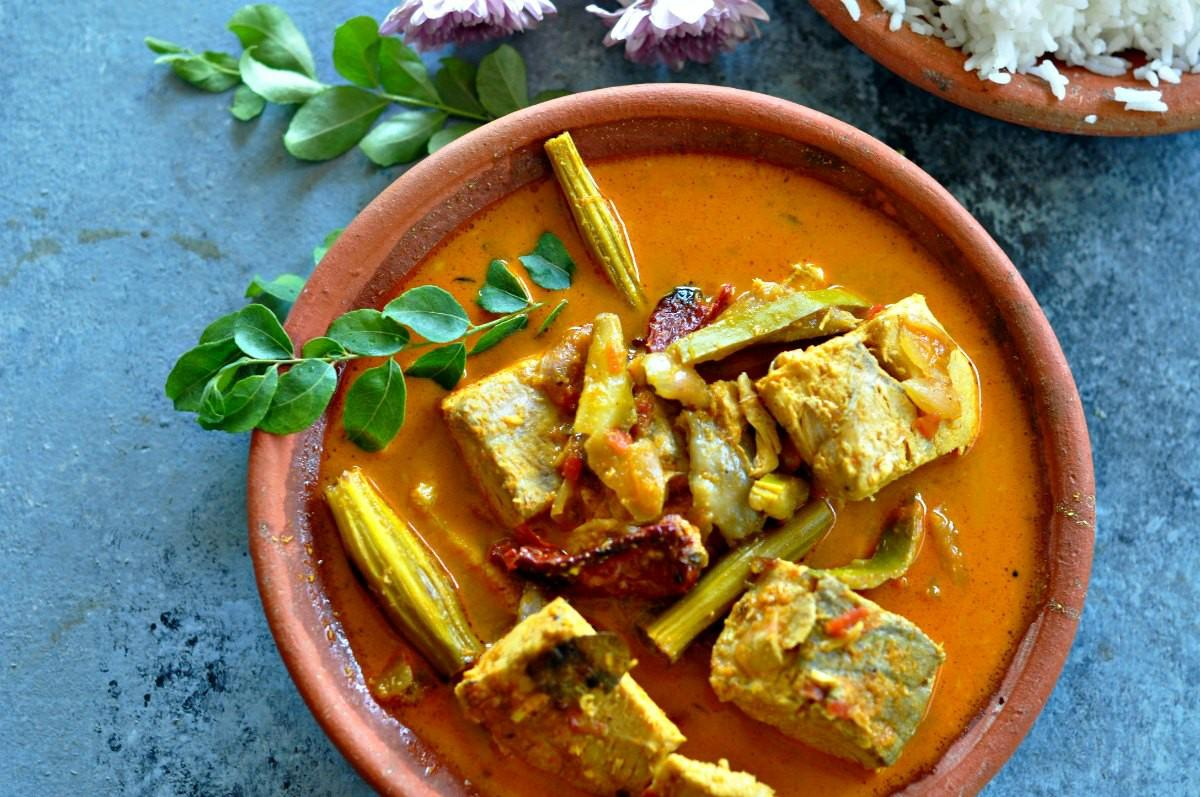FishCurry: (311, 148, 1042, 797)
WhiteRice: (845, 0, 1200, 110)
